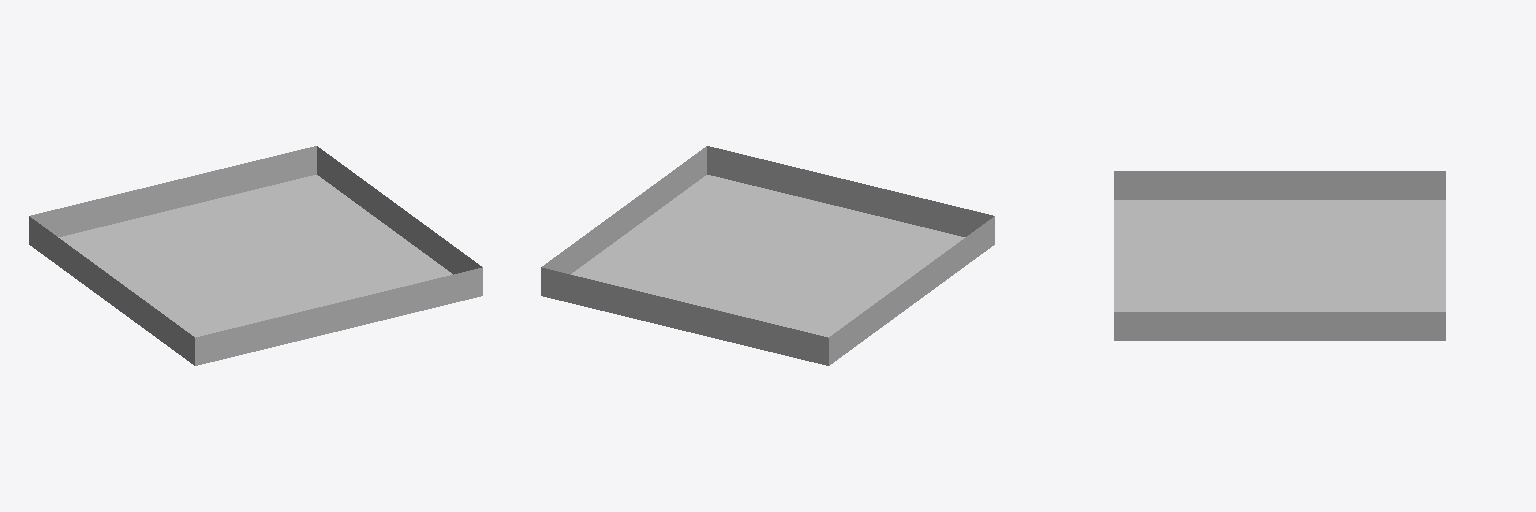
Rendered from level.obj.
The picture shows the model from 3 angles: view 1: azimuth 30°, elevation 25°; view 2: azimuth 150°, elevation 25°; view 3: azimuth 270°, elevation 25°; orthographic projection.
Visible parts, largest first — view 1: pPlane11; view 2: pPlane11; view 3: pPlane11.
Boxes of the visible parts, x1,y1,x2,y2 form: pPlane11: [29, 146, 482, 365]; pPlane11: [541, 146, 994, 365]; pPlane11: [1114, 171, 1445, 340].
Size of the model in its own units: 70 by 6.67 by 70.